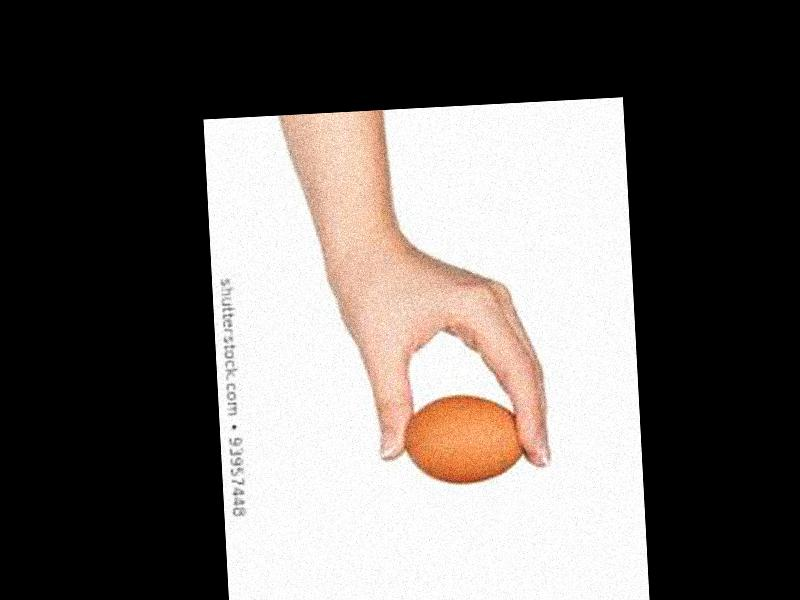Eggs: (401, 393, 532, 486)
